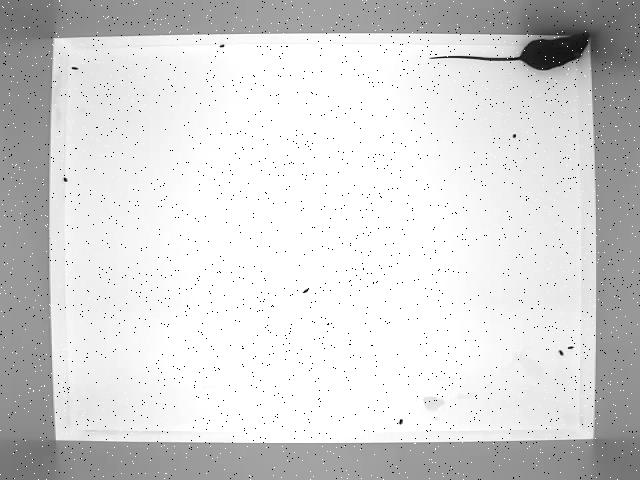Tikus: (420, 34, 606, 74)
